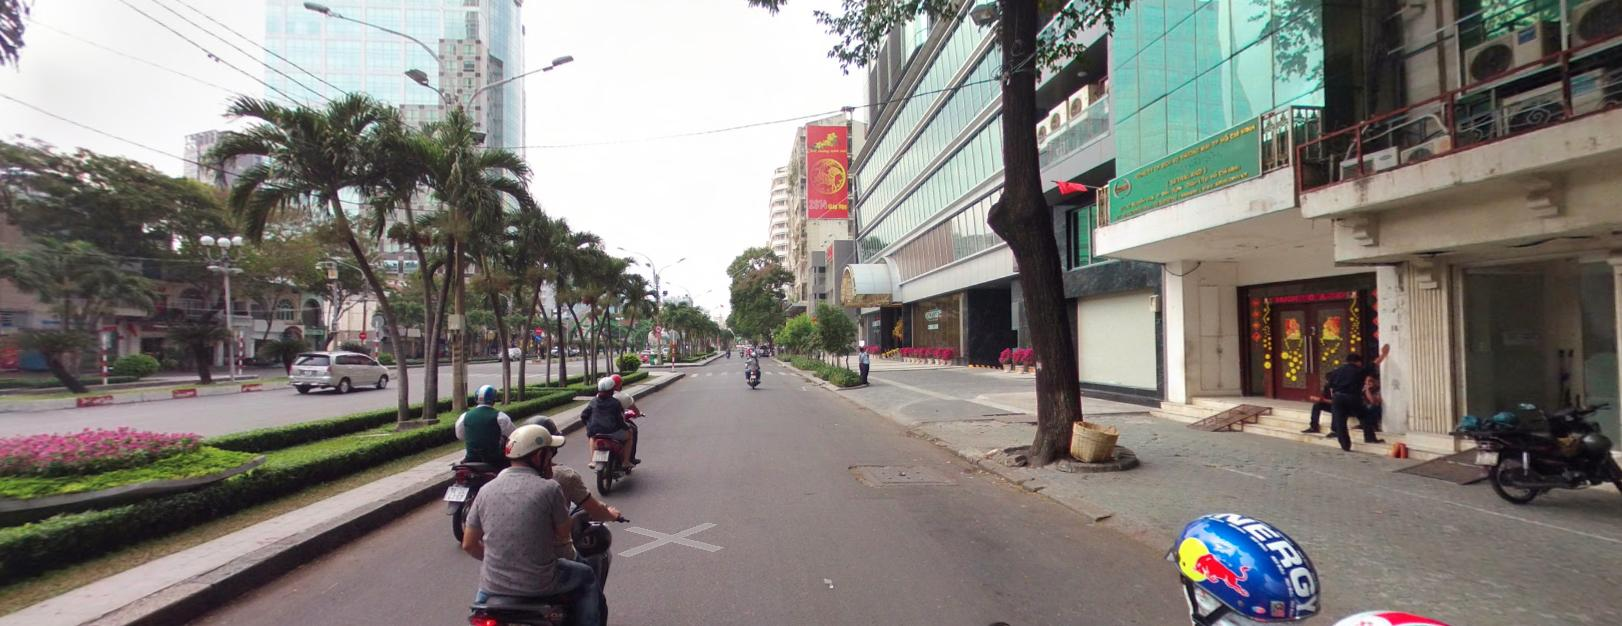Cam con lai: (654, 323, 662, 330)
Cam nguoc chieu: (534, 325, 541, 332)
Hieu lenh: (534, 333, 541, 340)
